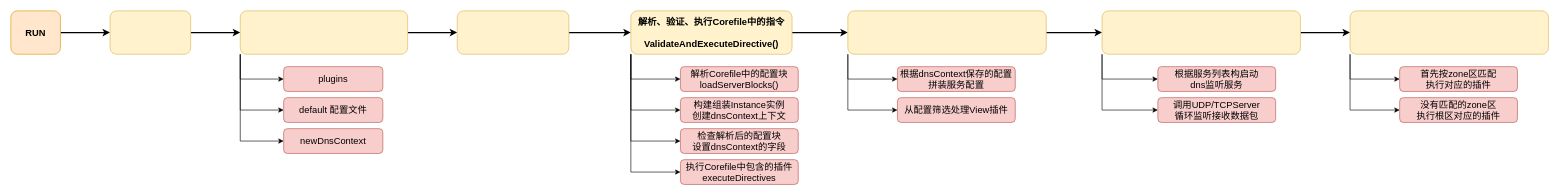
Some shapes in this 1559 by 195 pixel diagram are drawn without their labels. The shapes that lost their labels are listed below. From the top down, each one's centre as x and y in pixels, then its label:
(150,32): 导入匿名包 加载插件
(324,32): init() 注册dns服务到caddy caddy.RegisterServerType()
(513,32): 加载Corefile文件 caddy.LoadCaddyfile
(946,32): 根据Corefile中解析的配置,构建服务列表配置 Context.Mackeservers()
(1200,32): 根据服务列表配置启动并监听端口，接收数据 startServers
(1448,32): 接收dns数据包，调用对应插件处理 ServeDns()
